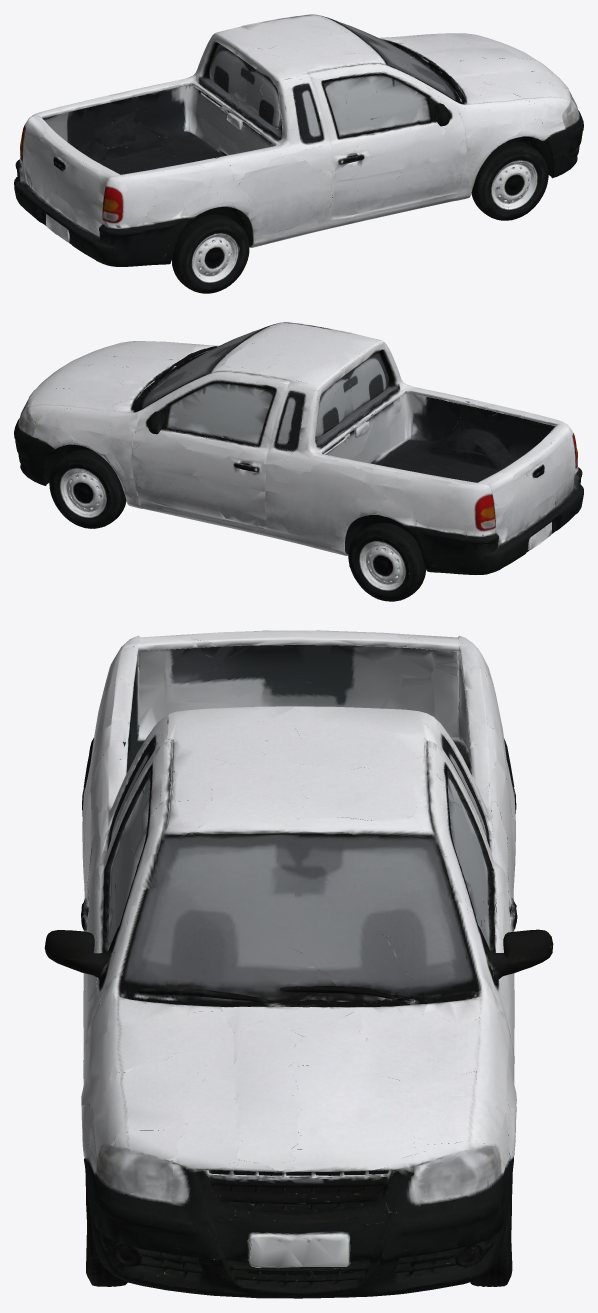
The model's file is picape-pequena__01a16c1b.glb.
The picture shows the model from 3 angles, top to bottom: view 1: azimuth 30°, elevation 25°; view 2: azimuth 150°, elevation 25°; view 3: azimuth 270°, elevation 25°; orthographic projection. The views are drawn at different scales.
Parts seen in each view (by area): view 1: picape-pequena; view 2: picape-pequena; view 3: picape-pequena.
Boxes of the visible parts, box(x1,y1,x2,y2) form: picape-pequena: box(14, 14, 583, 293); picape-pequena: box(14, 322, 583, 601); picape-pequena: box(44, 630, 553, 1298).
Bounding box in the file's own units: 4.45 × 1.54 × 1.95.
1 material, 1 textured.
